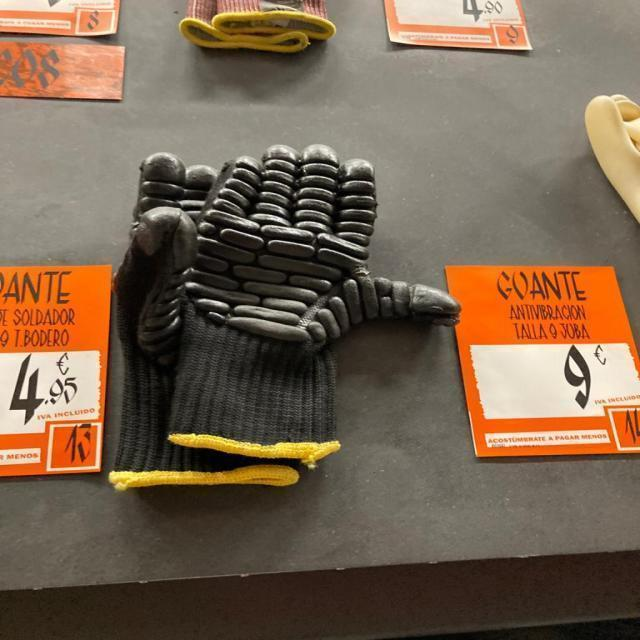gloves: (176, 143, 468, 464)
